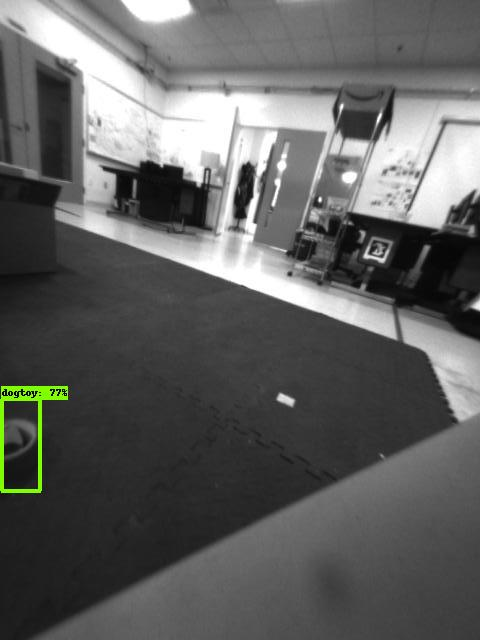dogtoy: (1, 398, 42, 482)
